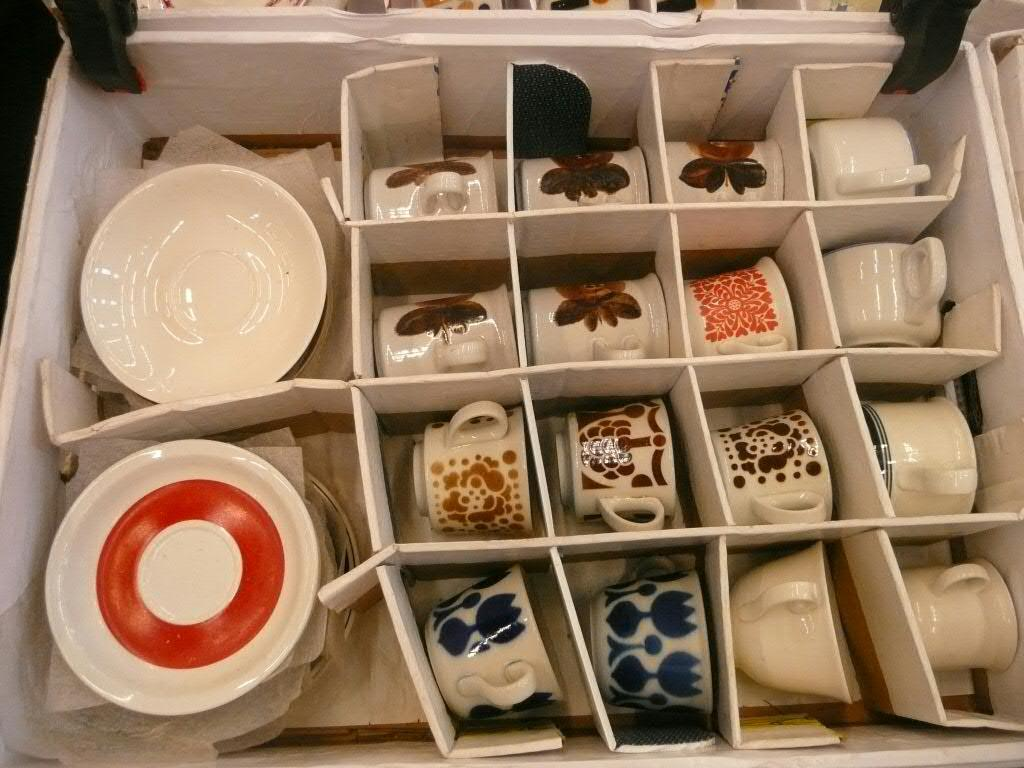plate: (32, 421, 305, 719), (190, 468, 376, 727)
